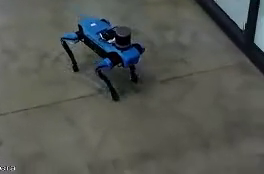robot dog: (55, 13, 149, 104)
